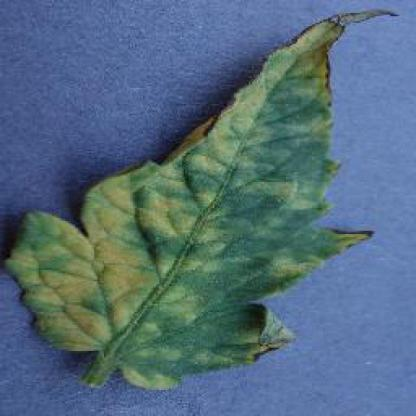Tomato_Leaf_Mold: (7, 9, 400, 368)
